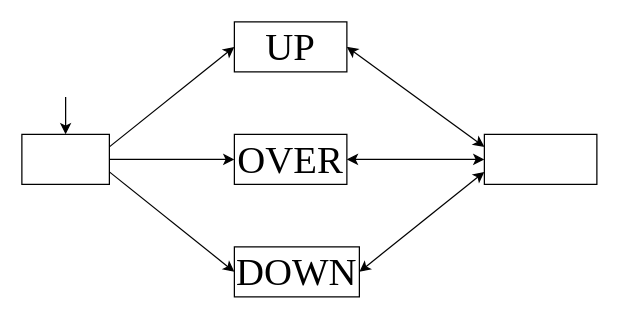
This 619x319 diagram has some shape labels left out. The box of each missing label's shape, as (x1, y1, x2, y2) in pixels:
INIT: (21, 133, 109, 184)
LOOP: (483, 133, 597, 184)
